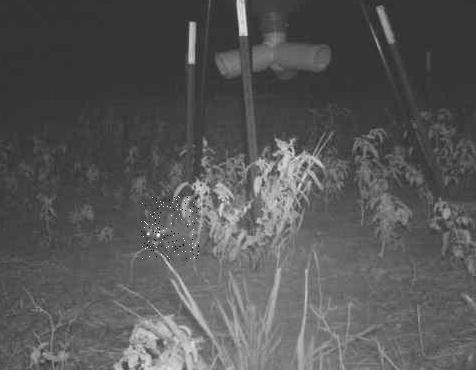Raccoon: (141, 197, 199, 260)
